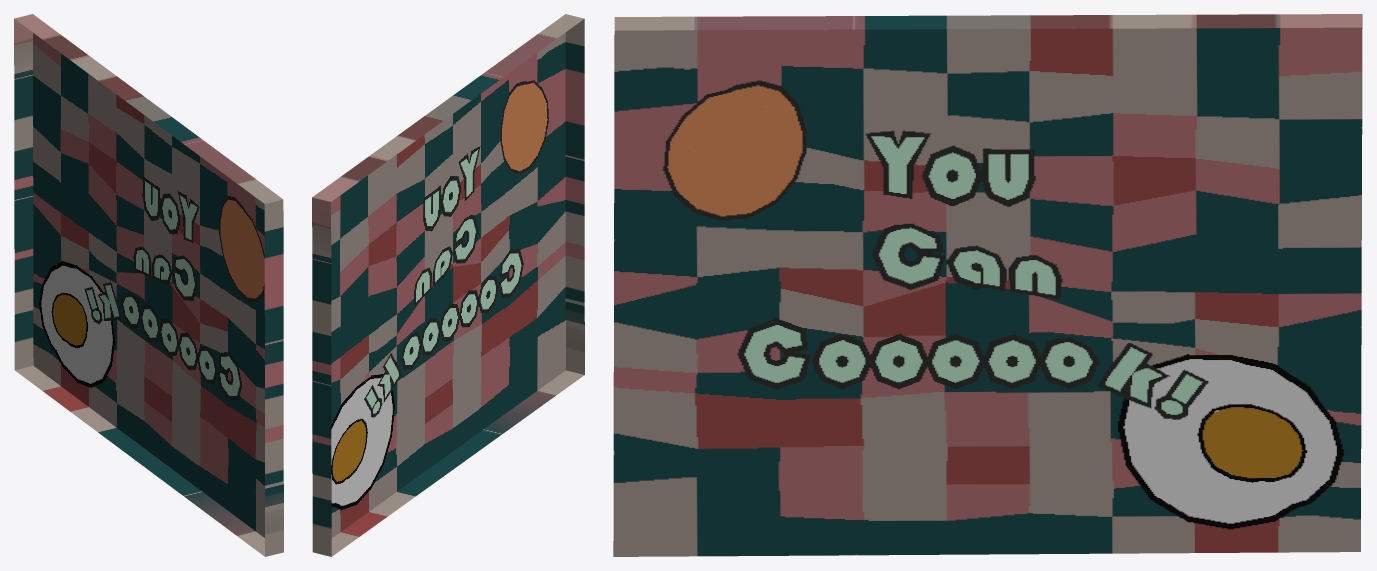
The model's file is picture.fbx.
3 views of the same model, side by side, from view 1: azimuth 30°, elevation 25°; view 2: azimuth 150°, elevation 25°; view 3: azimuth 270°, elevation 25° (orthographic). The views are drawn at different scales.
Visible parts, largest first — view 1: picture; view 2: picture; view 3: picture.
Part boxes in pixels (x1,y1,x2,y2): picture: [14, 14, 283, 556]; picture: [312, 14, 584, 556]; picture: [613, 14, 1362, 556].
Bounding box in the file's own units: 2.64 × 60.75 × 47.36.
Materials: 1 (1 with a texture image).
